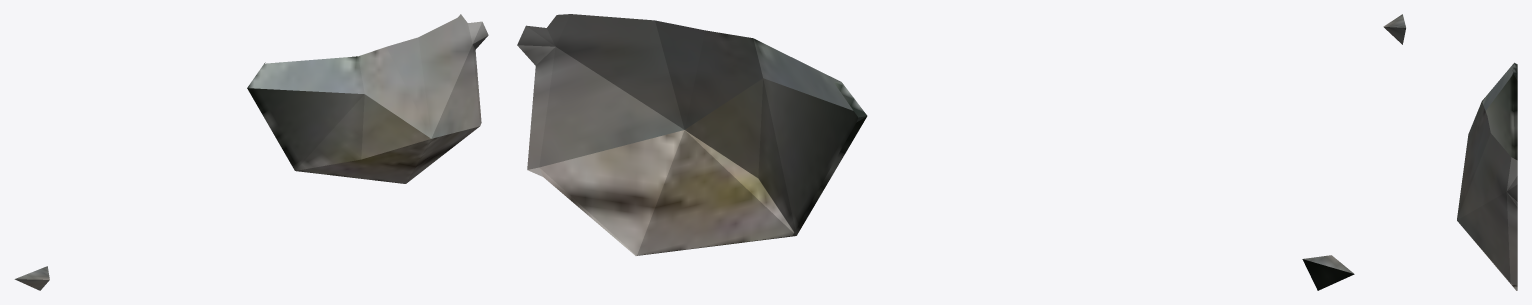
3 renders of one model, left to right at view 1: azimuth 30°, elevation 25°; view 2: azimuth 150°, elevation 25°; view 3: azimuth 270°, elevation 25°, orthographic. The views are drawn at different scales.
Size of the model in its own units: 0.3528 by 0.099 by 0.0765.
1 material, 1 textured.
